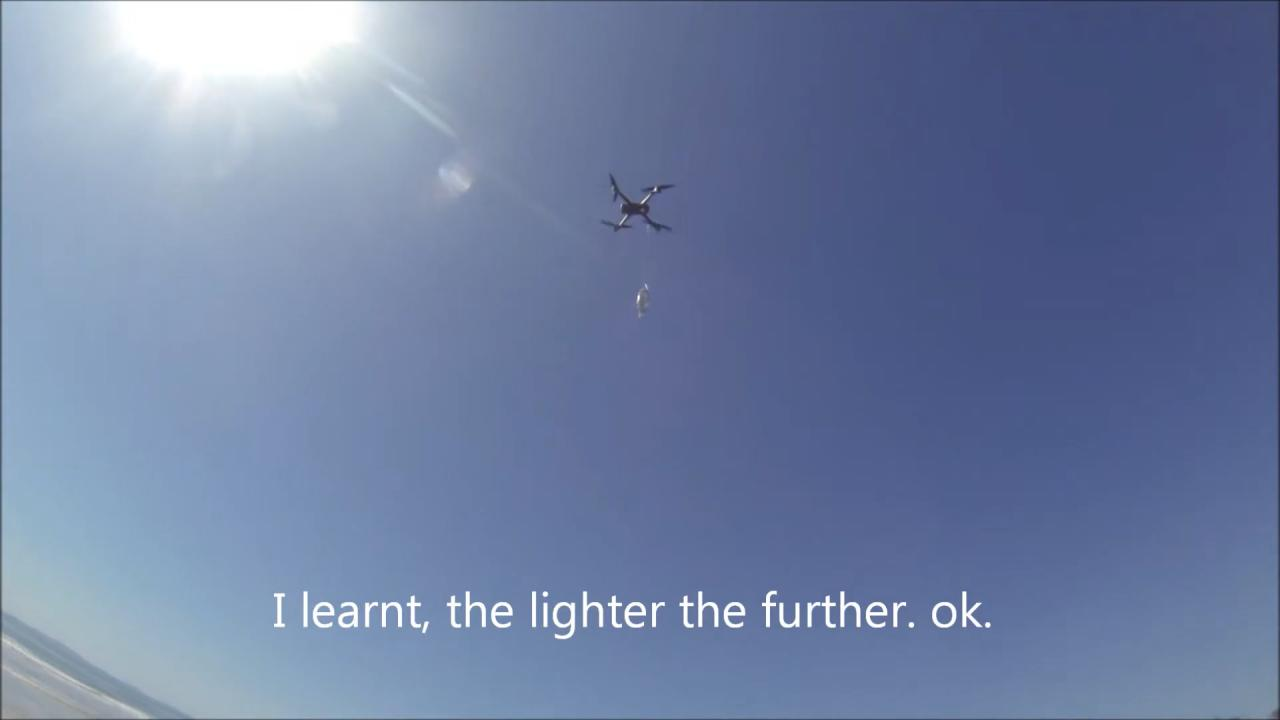Drone: (592, 165, 686, 249)
